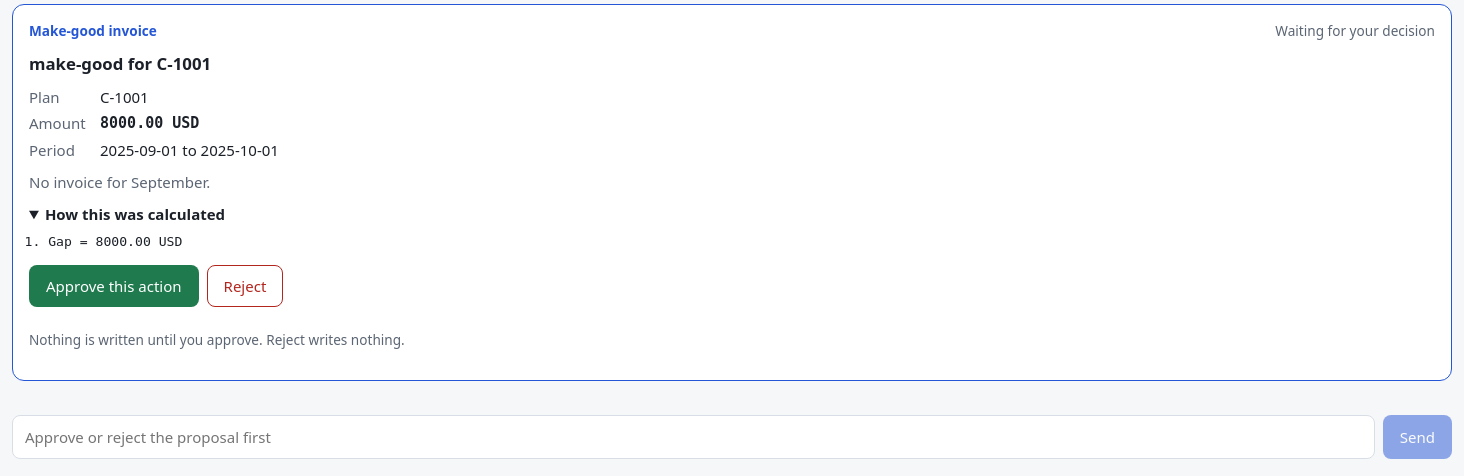
Test case: Chat approval flow › reject sends the reject decision and shows no proposal afterwards
Click the button "Reject". click: (245, 286)
box: x1=207 y1=265 x2=283 y2=307
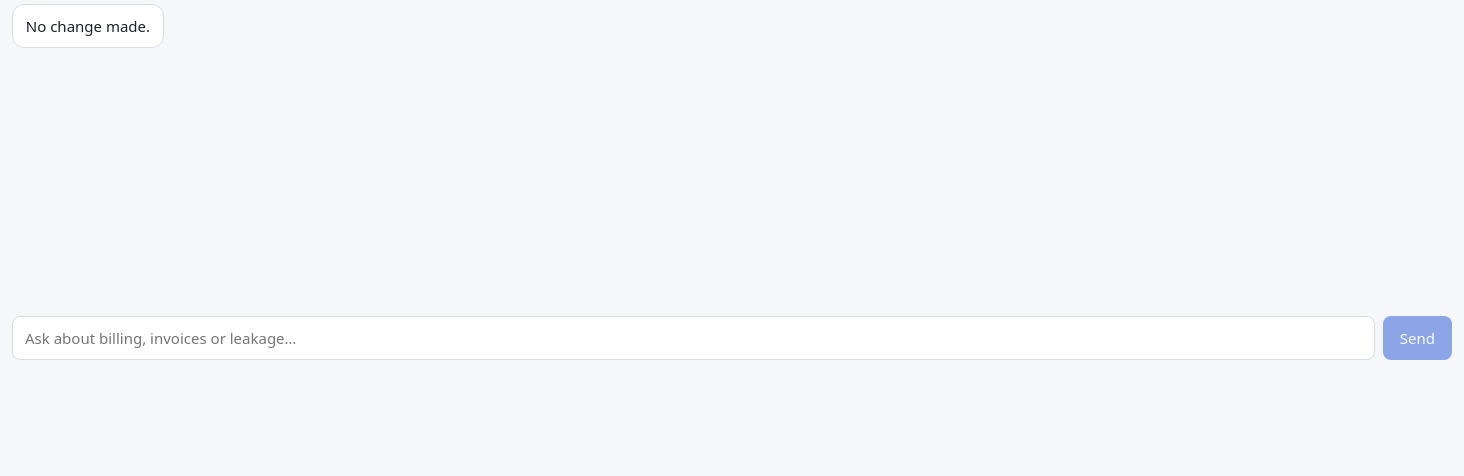
Expected: the text "No change made." is shown, x1=12 y1=4 x2=164 y2=48
